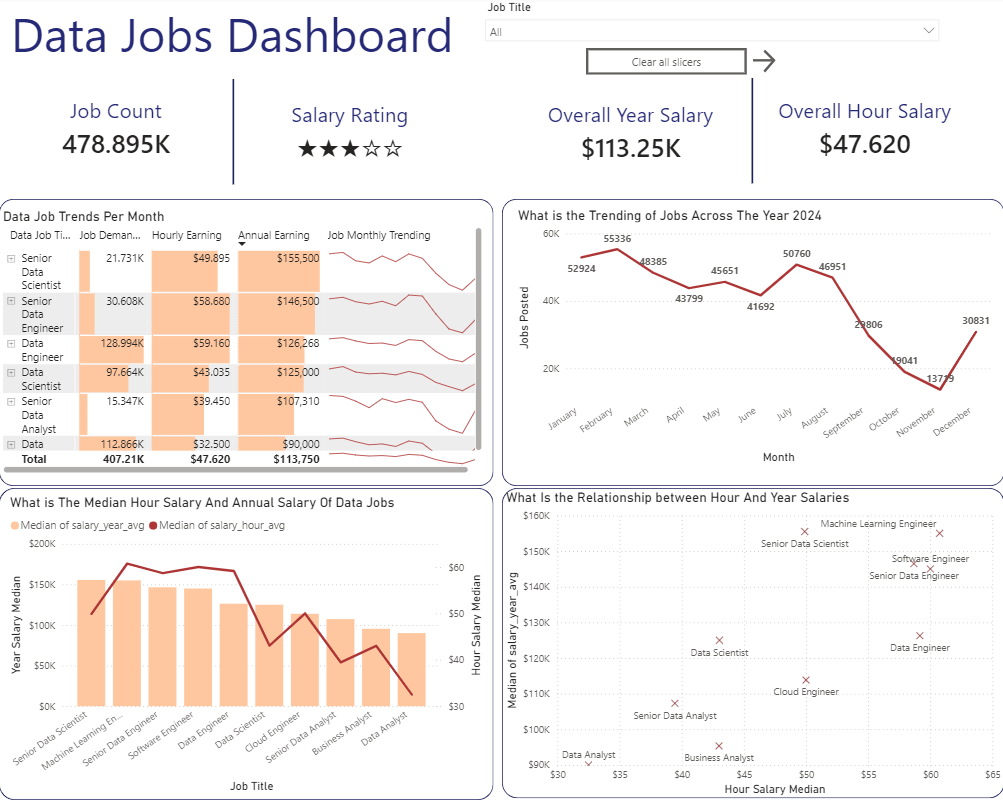

The page's visual inventory and layout, read from the dashboard file:
{"tool":"powerbi","page":{"name":"Data Jobs Dashboard","canvas":[1250,1000],"ordinal":0},"visuals":[{"type":"group","id":"g1","title":"Group 1","box":[0,251,1250,748],"z":0},{"type":"shape","box":[625,251,625,357],"z":0,"group":"g1"},{"type":"textbox","box":[9.9,0,584.8,109.3],"z":1000},{"type":"shape","box":[0,251,615,357],"z":1000,"group":"g1"},{"type":"cardVisual","fields":{"Data":["CountNonNull(job_postings_flat csv.job_title_short)"]},"box":[0,82.1,291,161.7],"z":2000},{"type":"shape","box":[0,611,615,388],"z":2000,"group":"g1"},{"type":"cardVisual","fields":{"Data":["job_postings_flat csv.Median of salary_year_avg star rating"]},"box":[291,92.2,291,151.3],"z":3000},{"type":"shape","box":[625,611,625,386],"z":3000,"group":"g1"},{"type":"cardVisual","fields":{"Data":["Median(job_postings_flat csv.salary_year_avg)"]},"box":[640,92.5,290,151.2],"z":4000},{"type":"cardVisual","fields":{"Data":["Median(job_postings_flat csv.salary_hour_avg)"]},"box":[930,87,293,152],"z":5000},{"type":"lineChart","title":"What is the Trending of Jobs Across  The Year 2024  ","fields":{"Y":["CountNonNull(job_postings_flat csv.job_title_short)"],"Category":["job_postings_flat csv.job_posted_date.Variation.Date Hierarchy.Year","job_postings_flat csv.job_posted_date.Variation.Date Hierarchy.Quarter","job_postings_flat csv.job_posted_date.Variation.Date Hierarchy.Month","job_postings_flat csv.job_posted_date.Variation.Date Hierarchy.Day"]},"box":[640,261.2,597.5,323.8],"z":6000},{"type":"lineClusteredColumnComboChart","title":"What is The  Median Hour Salary And Annual Salary Of Data Jobs","fields":{"Y":["Median(job_postings_flat csv.salary_year_avg)"],"Y2":["Median(job_postings_flat csv.salary_hour_avg)"],"Category":["job_postings_flat csv.job_title_short"]},"box":[8.8,618.8,596.2,376.2],"z":7000},{"type":"pivotTable","title":"Data Job Trends Per Month","fields":{"Rows":["job_postings_flat csv.job_title_short","job_postings_flat csv.job_posted_date.Variation.Date Hierarchy.Month"],"Values":["CountNonNull(job_postings_flat csv.job_title)","Median(job_postings_flat csv.salary_hour_avg)","Median(job_postings_flat csv.salary_year_avg)","SparklineData(CountNonNull(job_postings_flat csv.job_title_short)_[job_postings_flat csv.job_posted_date.Variation.Date "]},"box":[0,262.5,606.2,335],"z":8000},{"type":"scatterChart","title":"What Is the Relationship between Hour And Year Salaries","fields":{"X":["Median(job_postings_flat csv.salary_hour_avg)"],"Y":["Median(job_postings_flat csv.salary_year_avg)"],"Category":["job_postings_flat csv.job_title_short"]},"box":[625,612.5,625,386.2],"z":9000},{"type":"shape","box":[202.5,102.5,177.5,131.2],"z":10000},{"type":"shape","box":[848.8,101.2,177.5,131.2],"z":11000},{"type":"slicer","fields":{"Values":["job_postings_flat csv.job_title_short"]},"box":[594.4,0,584.7,65.1],"z":12000},{"type":"actionButton","box":[730,63.3,200,33.3],"z":13000},{"type":"actionButton","box":[917.8,60,66.7,40],"z":14000}]}

Visuals, with their boxes in screenshot pixels (x1, y1, x2, y2), scaled from the page's 1250x1000 canvas onto the 1003x801 screenshot:
"Group 1" group: <bbox>0, 201, 1002, 800</bbox>
shape: <bbox>502, 201, 1002, 487</bbox>
textbox: <bbox>8, 0, 477, 88</bbox>
shape: <bbox>0, 201, 493, 487</bbox>
cardVisual - CountNonNull(job_postings_flat csv.job_title_short): <bbox>0, 66, 233, 195</bbox>
shape: <bbox>0, 489, 493, 800</bbox>
cardVisual - job_postings_flat csv.Median of salary_year_avg star rating: <bbox>233, 74, 467, 195</bbox>
shape: <bbox>502, 489, 1002, 799</bbox>
cardVisual - Median(job_postings_flat csv.salary_year_avg): <bbox>514, 74, 746, 195</bbox>
cardVisual - Median(job_postings_flat csv.salary_hour_avg): <bbox>746, 70, 981, 191</bbox>
"What is the Trending of Jobs Across  The Year 2024  " lineChart: <bbox>514, 209, 993, 469</bbox>
"What is The  Median Hour Salary And Annual Salary Of Data Jobs" lineClusteredColumnComboChart: <bbox>7, 496, 485, 797</bbox>
"Data Job Trends Per Month" pivotTable: <bbox>0, 210, 486, 479</bbox>
"What Is the Relationship between Hour And Year Salaries" scatterChart: <bbox>502, 491, 1002, 800</bbox>
shape: <bbox>162, 82, 305, 187</bbox>
shape: <bbox>681, 81, 824, 186</bbox>
slicer - job_postings_flat csv.job_title_short: <bbox>477, 0, 946, 52</bbox>
actionButton: <bbox>586, 51, 746, 77</bbox>
actionButton: <bbox>736, 48, 790, 80</bbox>
